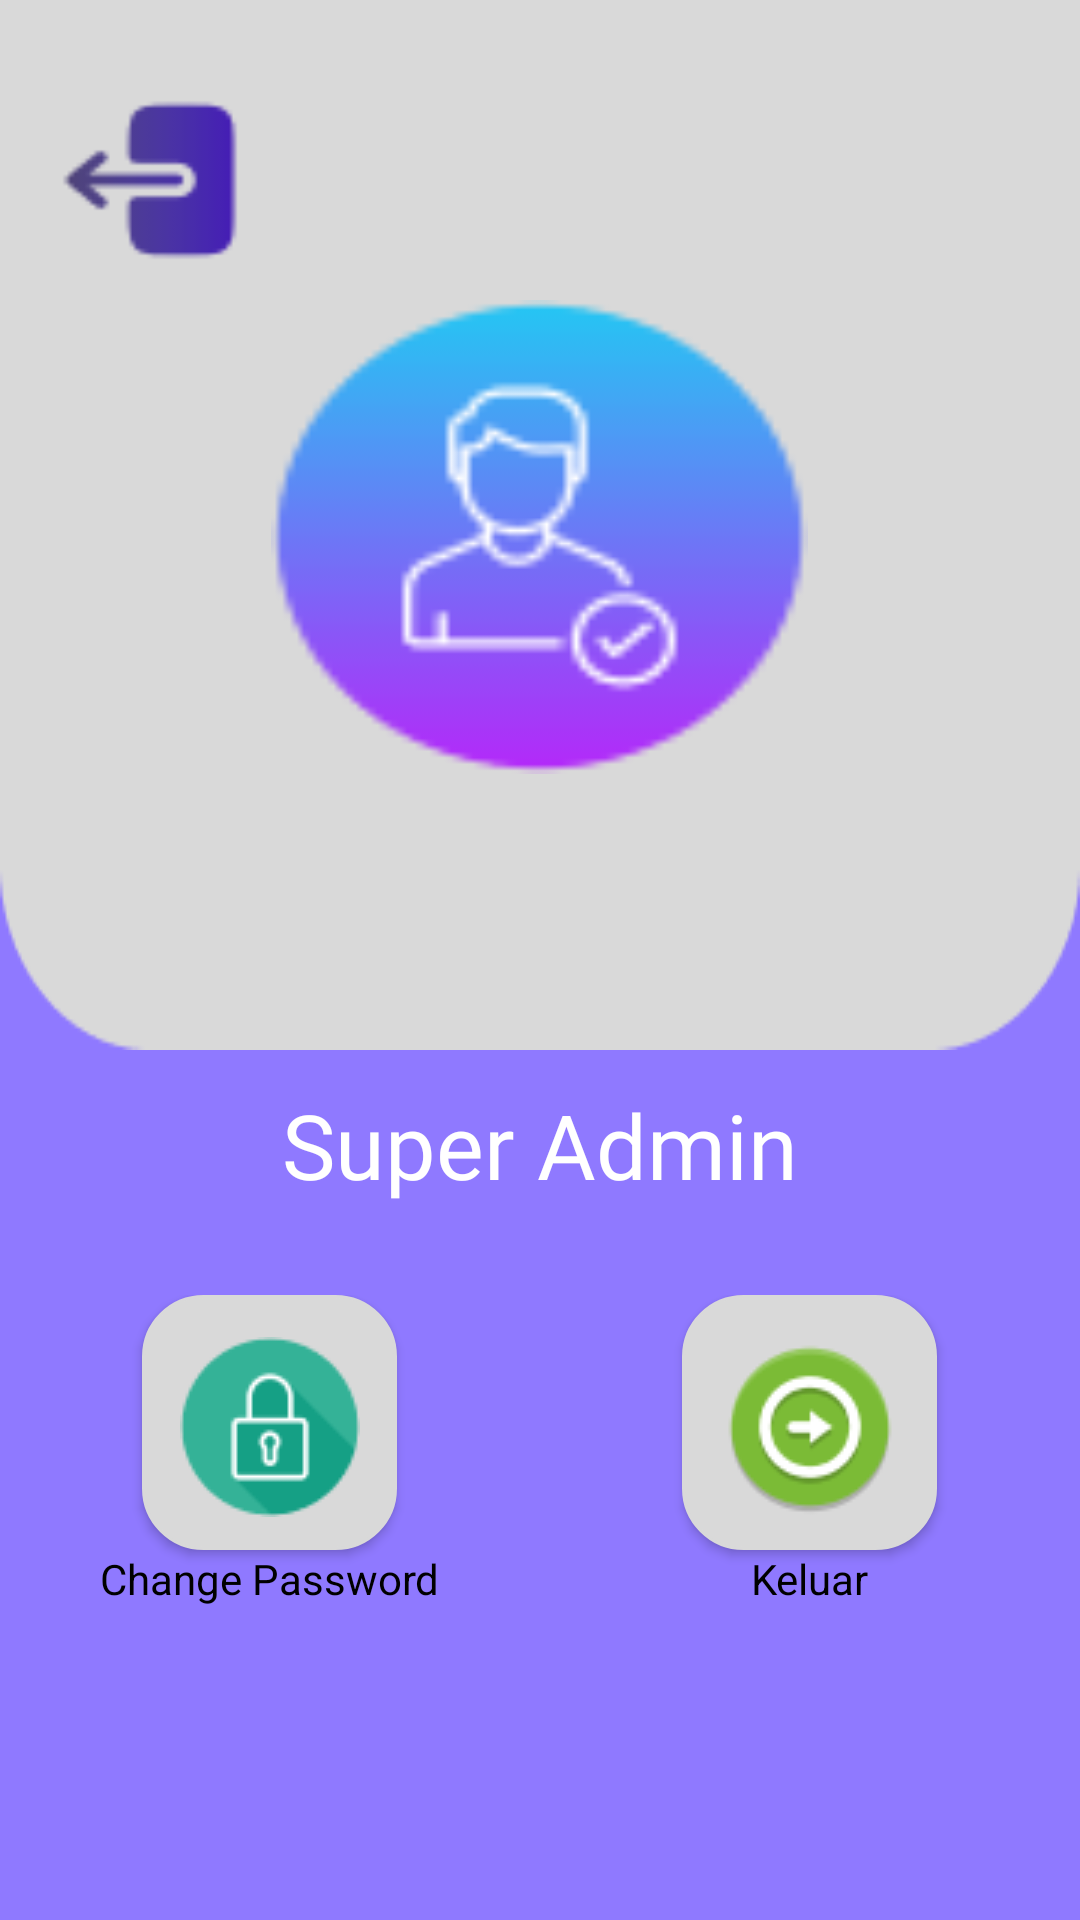

Screen size 1080×1920. Icon name, then its box in pixels as bbox=[x1, y1, x2, y2]:
Tombol Kembali: bbox=[64, 102, 237, 258]
